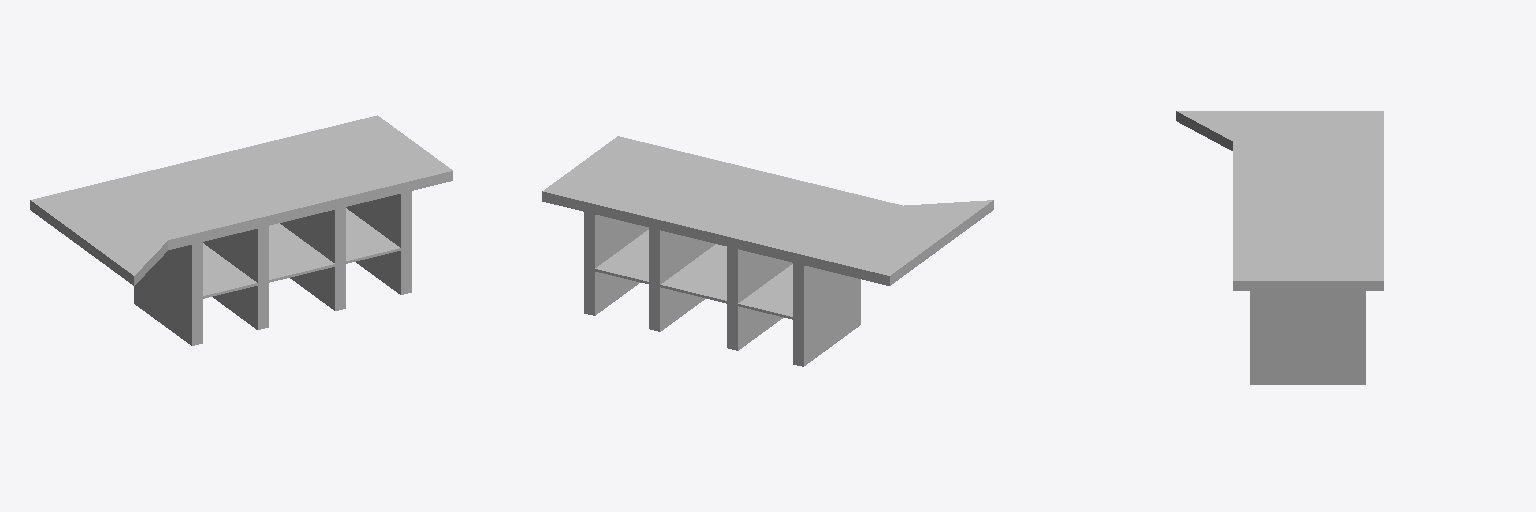
The model's file is Desk_wExtraSpace.obj.
The picture shows the model from 3 angles: view 1: azimuth 30°, elevation 25°; view 2: azimuth 150°, elevation 25°; view 3: azimuth 270°, elevation 25°; orthographic projection.
Parts seen in each view (by area): view 1: Desk; view 2: Desk; view 3: Desk.
Boxes of the visible parts, box(x1,y1,x2,y2) form: Desk: box(30, 115, 452, 345); Desk: box(542, 136, 993, 366); Desk: box(1176, 111, 1383, 384).
Size of the model in its own units: 347 by 115 by 180.